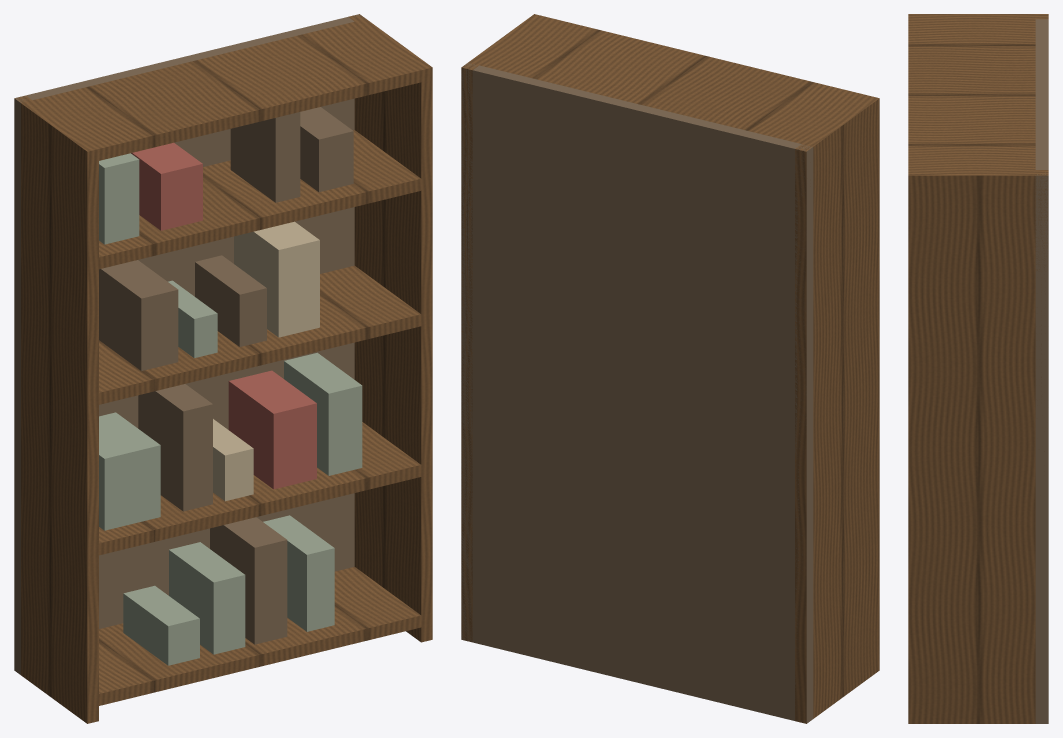
The model's file is shelf.glb.
The picture shows the model from 3 angles, left to right: view 1: azimuth 30°, elevation 25°; view 2: azimuth 150°, elevation 25°; view 3: azimuth 270°, elevation 25°; orthographic projection. The views are drawn at different scales.
Visible parts, largest first — view 1: shelf, items; view 2: shelf; view 3: shelf.
Part boxes in pixels (x1,y1,x2,y2): shelf: [14, 14, 432, 723]; items: [99, 107, 362, 665]; shelf: [461, 14, 879, 723]; shelf: [908, 14, 1048, 723].
Bounding box in the file's own units: 1.2 × 1.9 × 0.44.
Materials: 5 (1 with a texture image).
